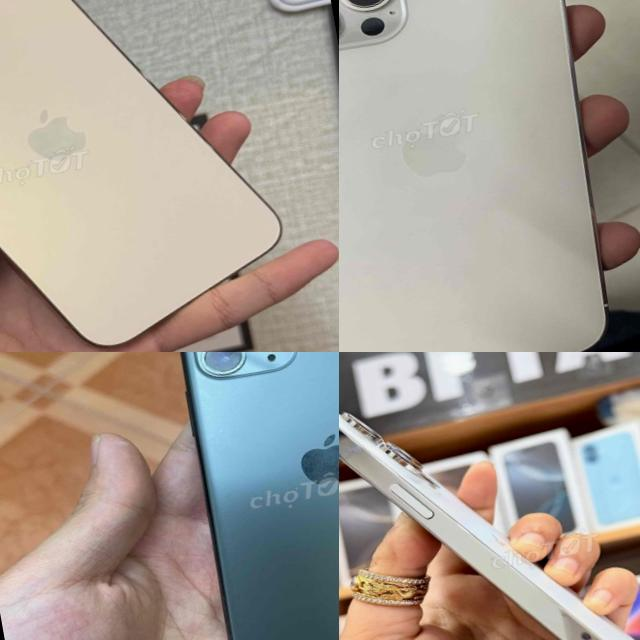gen_11: (146, 352, 339, 640)
gen_12_13: (339, 0, 626, 352)
gen_14: (0, 0, 307, 352), (339, 358, 640, 640)
